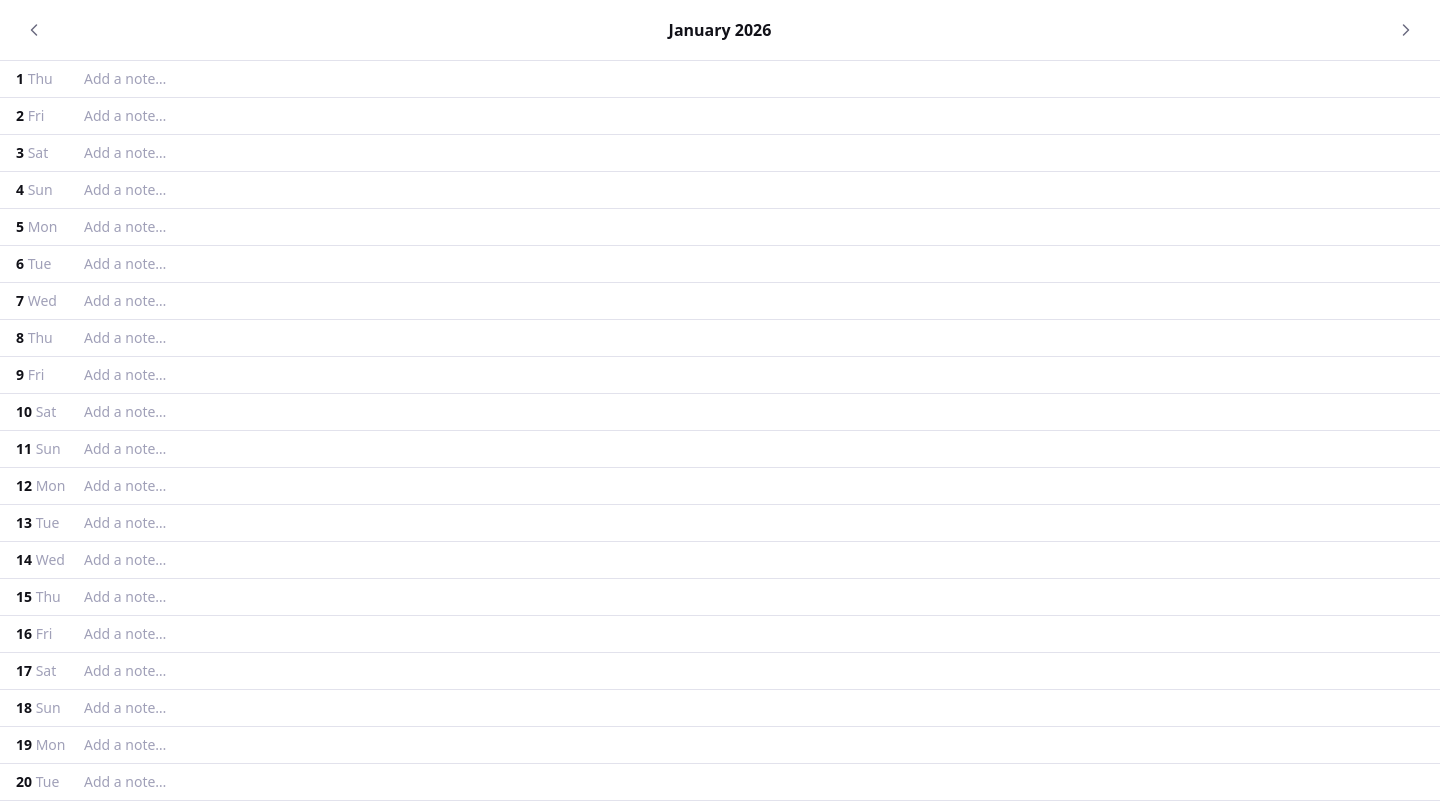
Test: TimelineView › wraps to December of previous year when navigating back from January
Click the button named "previous" at x=34, y=30, box left=16, top=12, right=52, bottom=48
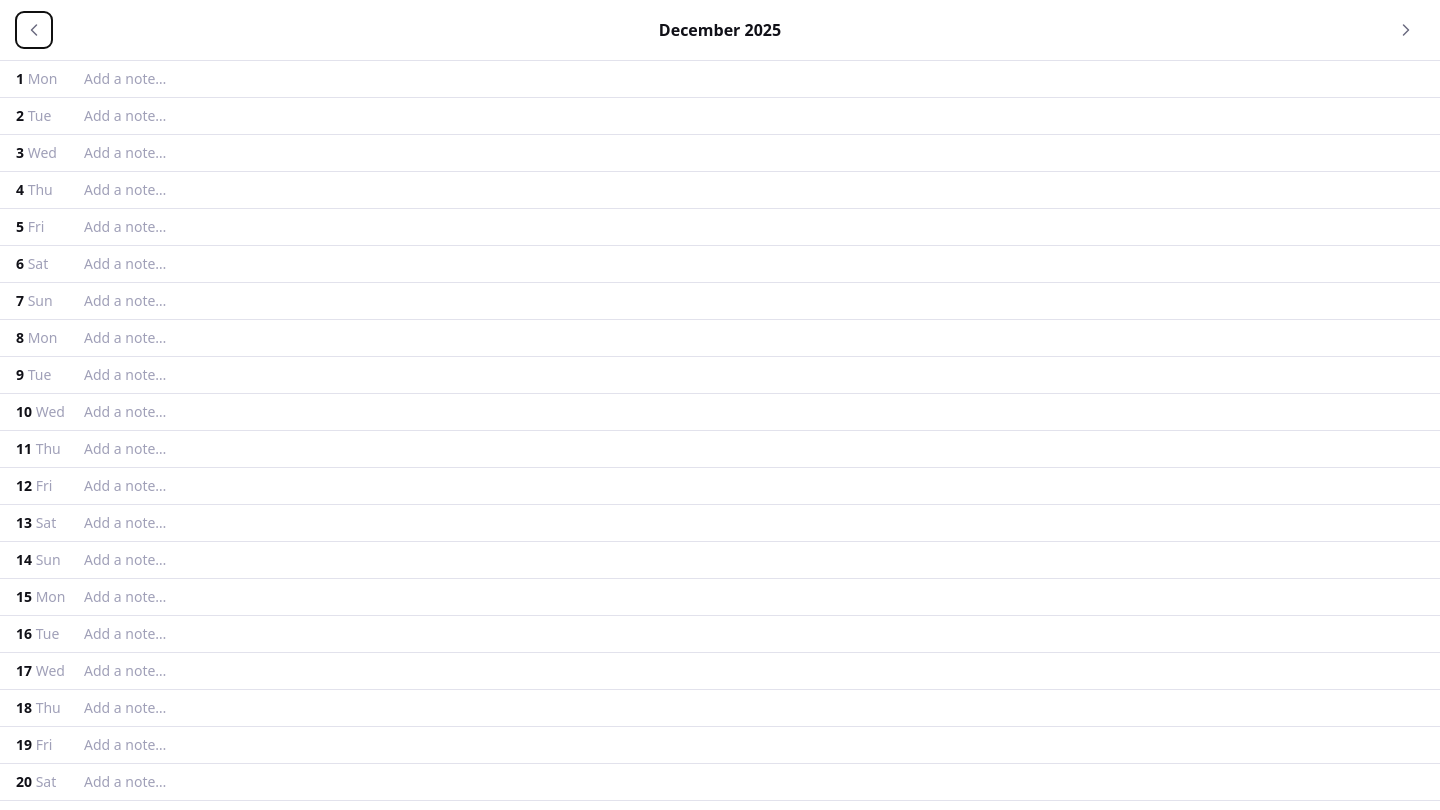
Expected: the text "December 2025" is shown, left=659, top=18, right=781, bottom=42
